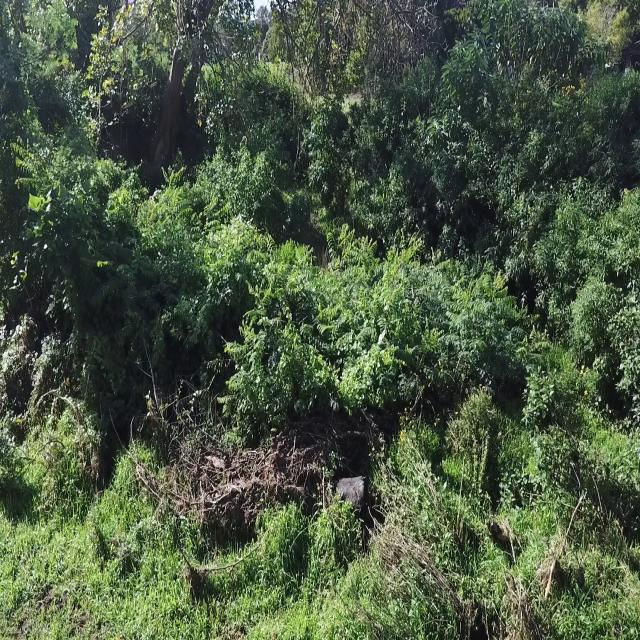Mysore-Thorn-Weed: (442, 268, 538, 373), (352, 236, 422, 372), (236, 248, 306, 344), (224, 326, 269, 448), (152, 160, 188, 246), (192, 194, 230, 266)
